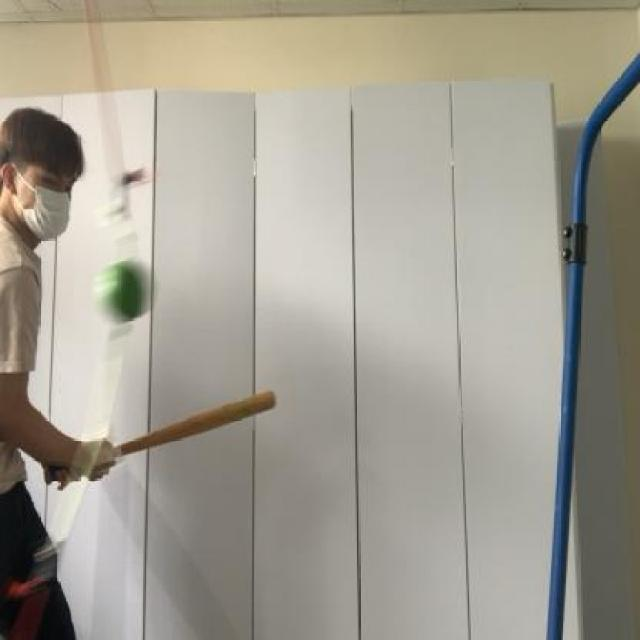baseball: (92, 254, 159, 329)
